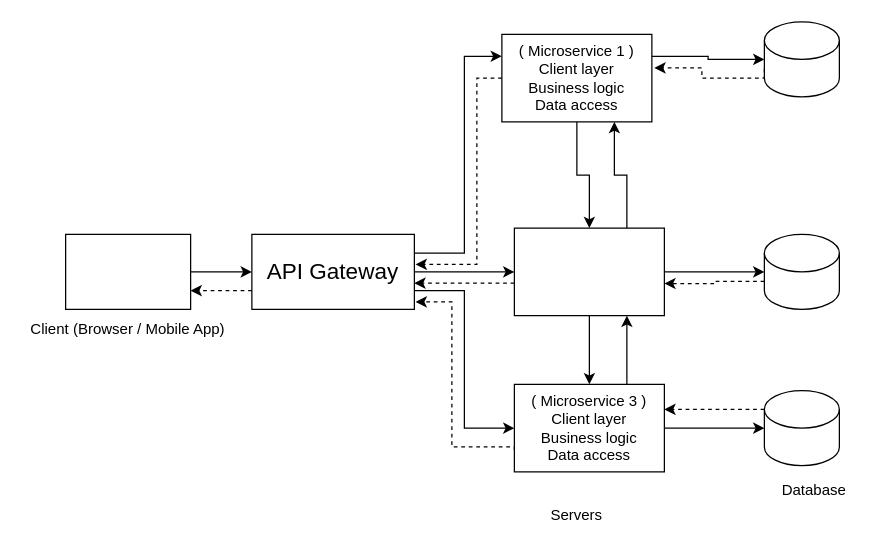
The diagram is 873 pixels wide and 556 high, and some of its shapes have lost their labels. The shapes that lost their labels are listed below. From the top down, each one's centre as x and y in pixels, then its label:
point (127, 271): Client
point (588, 271): ( Microservice 2 ) Client layer Business logic Data access
